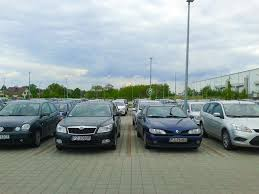car: (55, 100, 121, 149), (134, 105, 202, 149), (201, 101, 259, 150), (1, 99, 58, 147)
